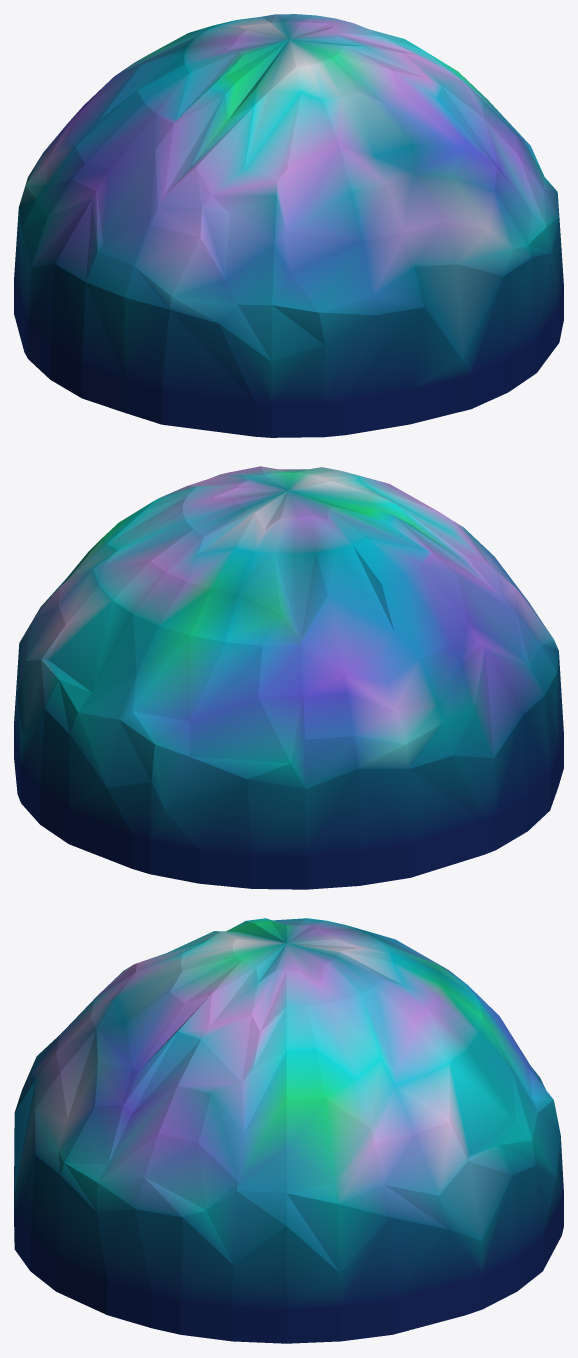
Rendered from World.fbx.
The picture shows the model from 3 angles, top to bottom: view 1: azimuth 30°, elevation 25°; view 2: azimuth 150°, elevation 25°; view 3: azimuth 270°, elevation 25°; orthographic projection.
Visible parts, largest first — view 1: World; view 2: World; view 3: World.
Part boxes in pixels (bbox=[...]): World: bbox=[14, 14, 563, 437]; World: bbox=[14, 466, 563, 889]; World: bbox=[14, 918, 563, 1343].
Size of the model in its own units: 1043550 by 608079 by 1034727.
